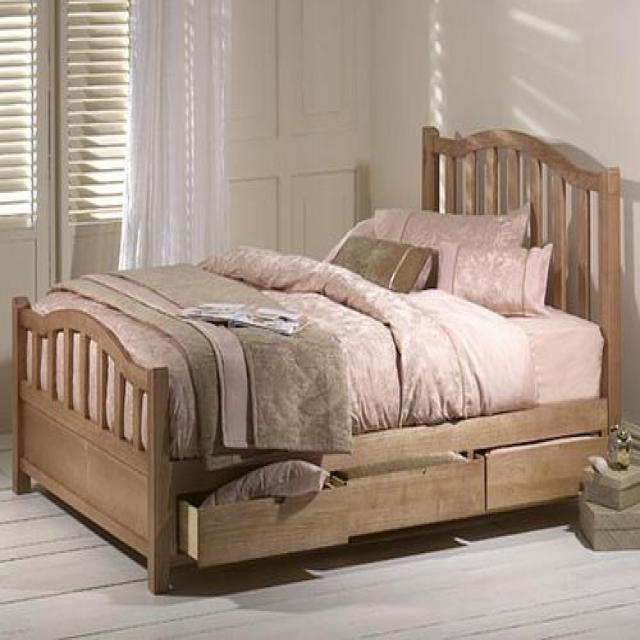bed: (10, 125, 622, 594)
